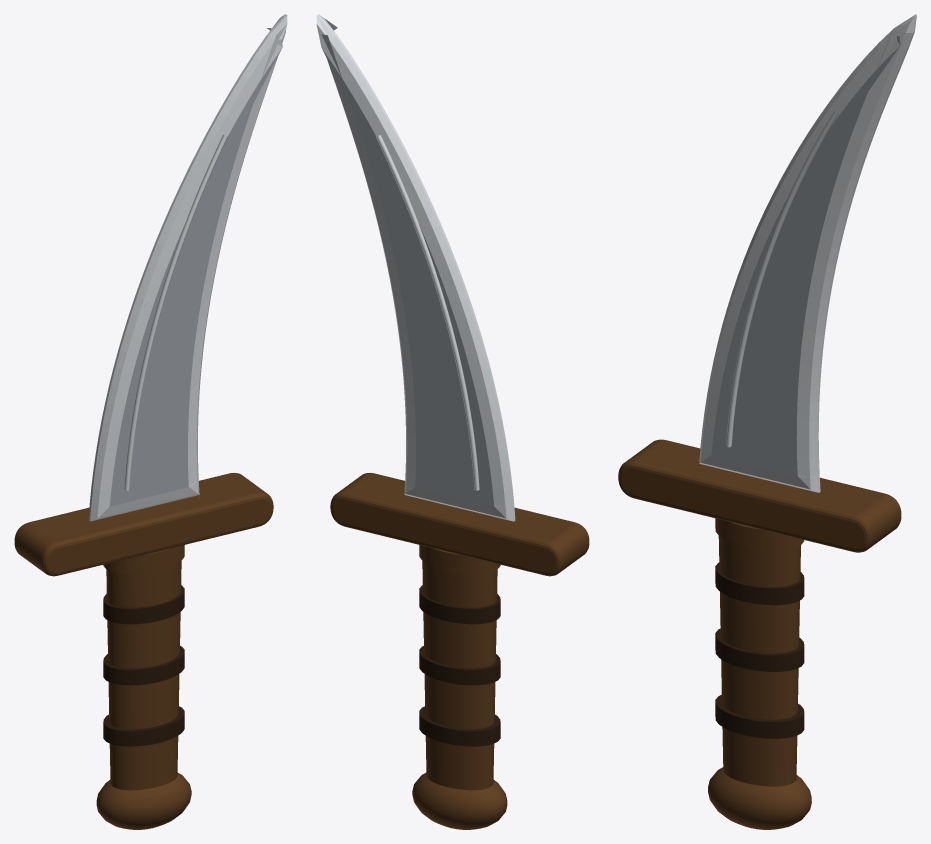
Rendered from 12_Uncommon_Hunter_s_Hook.glb.
3 views of the same model, side by side, from view 1: azimuth 30°, elevation 25°; view 2: azimuth 150°, elevation 25°; view 3: azimuth 330°, elevation 25° (orthographic). The views are drawn at different scales.
Visible parts, largest first — view 1: blade_1, guard_0, handle_2, pommel_7, blade_inlay_9, handle_band_5, handle_band_4, handle_band_3, ferrule_6; view 2: blade_1, guard_0, handle_2, pommel_7, blade_inlay_8, handle_band_5, handle_band_4, handle_band_3, ferrule_6; view 3: blade_1, guard_0, handle_2, pommel_7, blade_inlay_9, handle_band_5, handle_band_4, handle_band_3, ferrule_6.
Part boxes in pixels (bbox=[...]): blade_1: bbox=[88, 14, 287, 521]; guard_0: bbox=[14, 473, 273, 576]; handle_2: bbox=[106, 551, 181, 790]; pommel_7: bbox=[96, 773, 191, 829]; blade_inlay_9: bbox=[124, 135, 227, 490]; handle_band_5: bbox=[103, 706, 184, 746]; handle_band_4: bbox=[103, 646, 184, 685]; handle_band_3: bbox=[103, 585, 184, 624]; ferrule_6: bbox=[103, 545, 184, 573]; blade_1: bbox=[316, 14, 515, 521]; guard_0: bbox=[330, 473, 589, 576]; handle_2: bbox=[422, 551, 497, 790]; pommel_7: bbox=[412, 773, 507, 829]; blade_inlay_8: bbox=[376, 135, 479, 490]; handle_band_5: bbox=[419, 706, 500, 746]; handle_band_4: bbox=[419, 646, 500, 685]; handle_band_3: bbox=[419, 585, 500, 624]; ferrule_6: bbox=[419, 545, 500, 573]; blade_1: bbox=[699, 14, 916, 492]; guard_0: bbox=[618, 439, 901, 552]; handle_2: bbox=[718, 536, 800, 786]; pommel_7: bbox=[708, 767, 811, 829]; blade_inlay_9: bbox=[726, 111, 839, 447]; handle_band_5: bbox=[715, 695, 804, 738]; handle_band_4: bbox=[715, 628, 804, 671]; handle_band_3: bbox=[715, 562, 804, 605]; ferrule_6: bbox=[715, 518, 804, 549].
Size of the model in its own units: 0.1768 by 0.5077 by 0.043.
8 materials, 8 textured.
